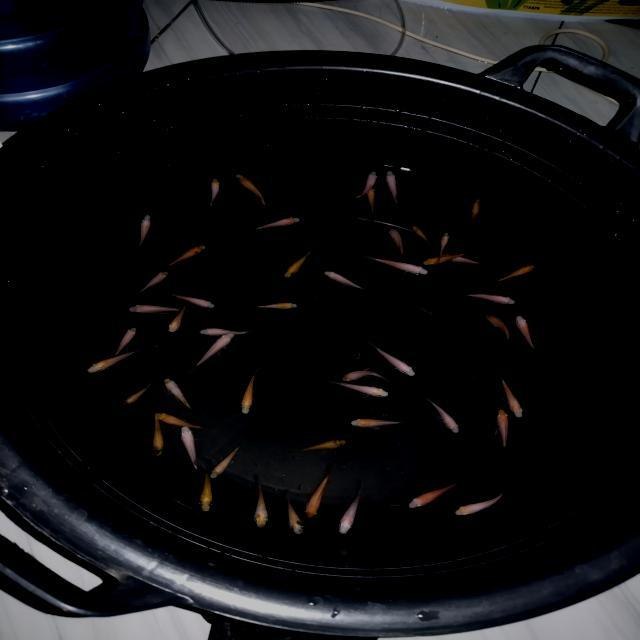nila: (362, 338, 420, 378), (407, 476, 470, 510), (454, 483, 508, 521), (82, 346, 142, 378), (302, 466, 336, 522), (192, 329, 236, 371), (233, 170, 270, 216), (124, 211, 159, 259), (336, 482, 366, 538), (321, 376, 393, 399), (424, 394, 462, 434), (159, 240, 206, 272), (207, 440, 244, 480), (340, 168, 381, 204), (162, 286, 217, 312), (247, 473, 271, 532), (278, 488, 306, 538), (497, 373, 528, 418), (162, 376, 198, 414), (362, 254, 429, 274), (281, 244, 317, 280), (120, 374, 156, 409), (194, 460, 216, 516), (176, 426, 200, 476), (132, 268, 170, 298), (321, 269, 372, 291), (420, 248, 478, 267), (456, 289, 517, 307), (246, 214, 302, 233), (493, 406, 513, 459), (494, 260, 538, 284), (238, 367, 260, 415), (164, 299, 192, 335), (184, 324, 254, 338), (153, 410, 202, 430), (109, 324, 139, 356), (124, 304, 192, 318), (384, 166, 407, 207), (483, 312, 512, 344), (514, 315, 538, 353), (340, 368, 395, 384), (299, 438, 348, 454), (386, 224, 408, 258), (434, 254, 487, 268), (148, 410, 162, 460), (348, 418, 406, 430), (458, 197, 482, 224), (248, 300, 301, 312), (206, 174, 223, 209), (411, 220, 432, 243), (364, 184, 378, 218), (434, 232, 452, 254)
